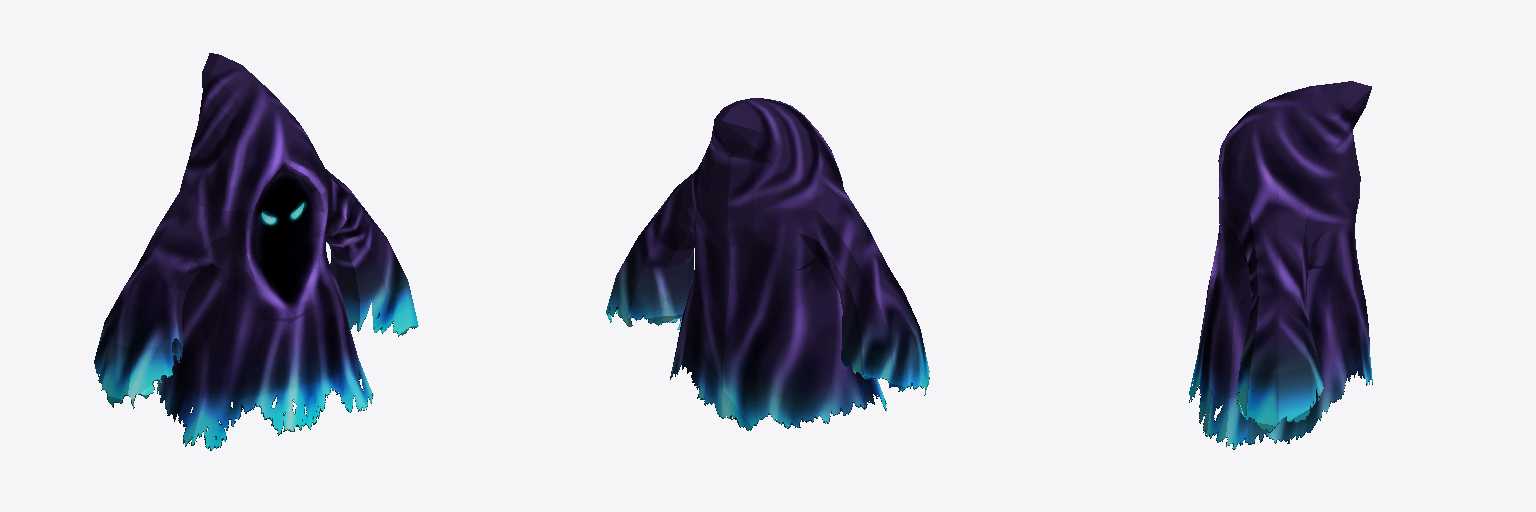
3 views of the same model, side by side, from view 1: azimuth 30°, elevation 25°; view 2: azimuth 150°, elevation 25°; view 3: azimuth 270°, elevation 25° (orthographic).
Parts seen in each view (by area): view 1: ghost_Cube; view 2: ghost_Cube; view 3: ghost_Cube.
Part boxes in pixels (left/top/right/bottom): ghost_Cube: left=94, top=53, right=418, bottom=450; ghost_Cube: left=606, top=98, right=929, bottom=430; ghost_Cube: left=1189, top=81, right=1372, bottom=449.
Bounding box in the file's own units: 3.11 × 3.35 × 1.72.
Materials: 1 (1 with a texture image).